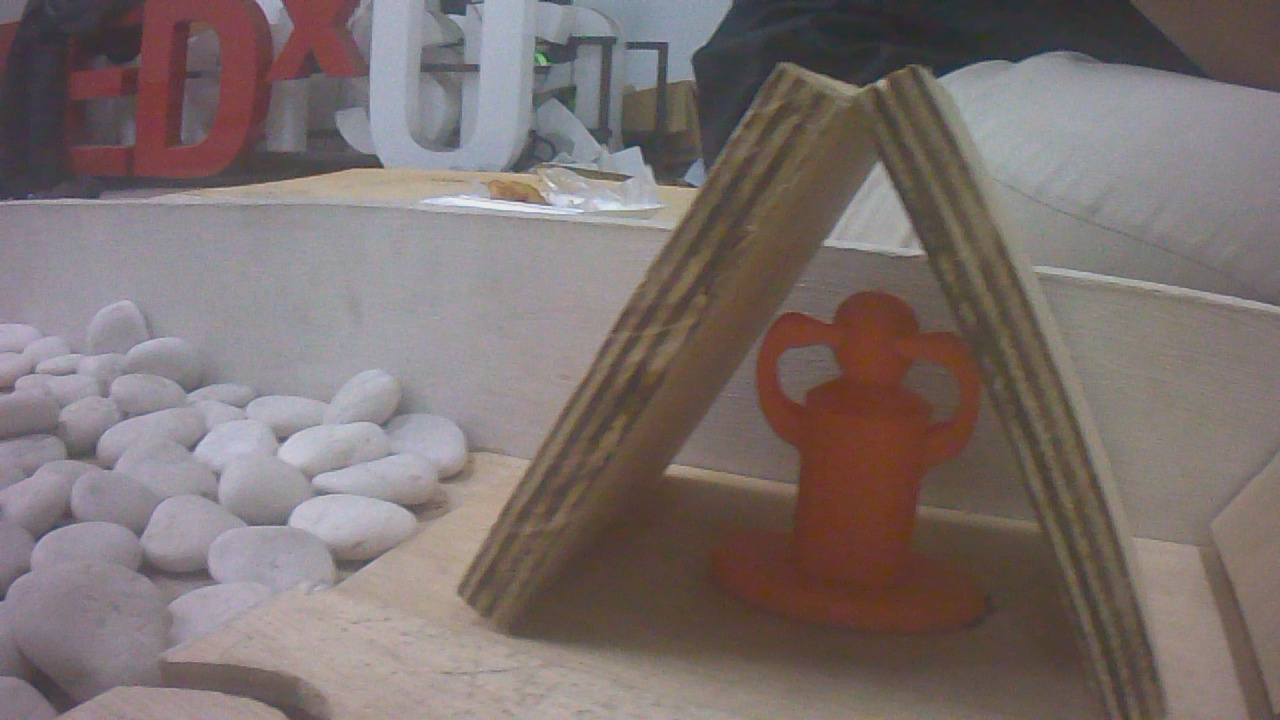real: (744, 273, 985, 624)
